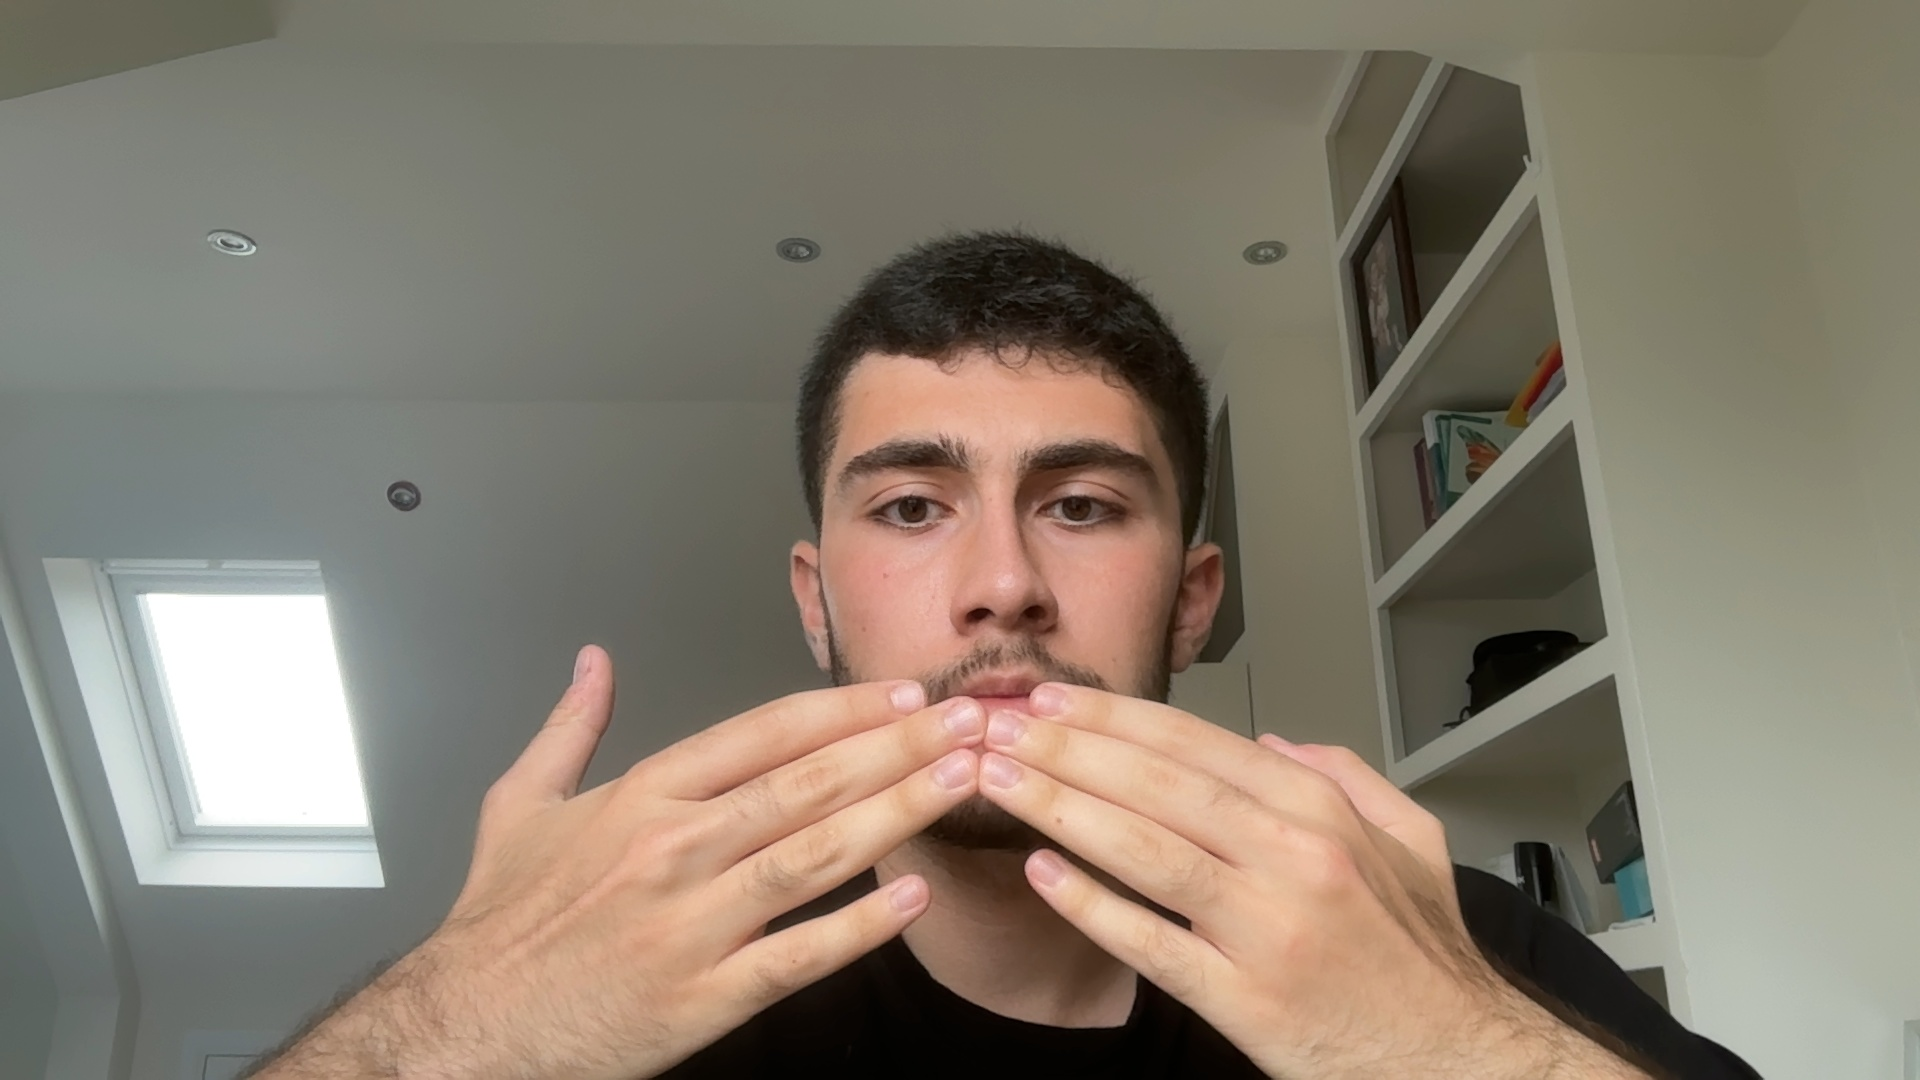Thank You: (328, 633, 1606, 1080)
